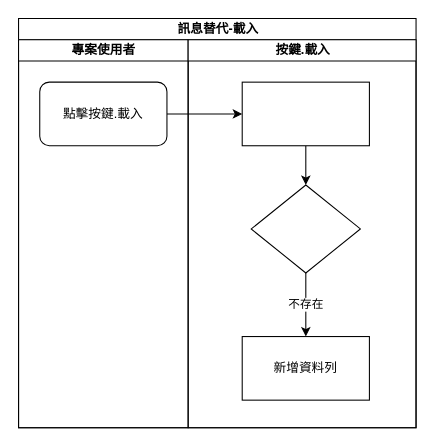
This 435x446 diagram has some shape labels left out. The shapes that lost their labels are listed below. From the top down, each one's centre as x and y in pixels, then its label:
point 305,113: 依指定的訊息內容解析出替換字
point 305,228: 檢查參數是否存在資料列
